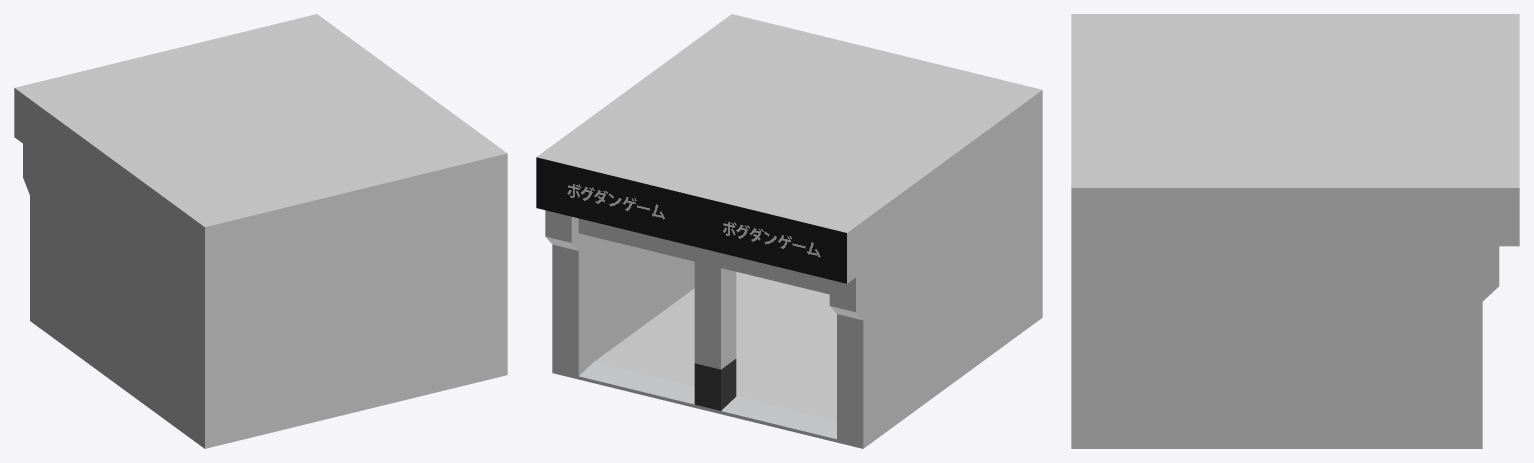
The model's file is Garage.fbx.
3 views of the same model, side by side, from view 1: azimuth 30°, elevation 25°; view 2: azimuth 150°, elevation 25°; view 3: azimuth 270°, elevation 25° (orthographic). The views are drawn at different scales.
Parts seen in each view (by area): view 1: pitsGarage; view 2: pitsGarage; view 3: pitsGarage.
Boxes of the visible parts, <box> form: pitsGarage: <box>14,14,507,448</box>; pitsGarage: <box>536,14,1042,448</box>; pitsGarage: <box>1071,14,1519,448</box>.
Bounding box in the file's own units: 1000 × 700 × 1090.
Materials: 4 (1 with a texture image).
